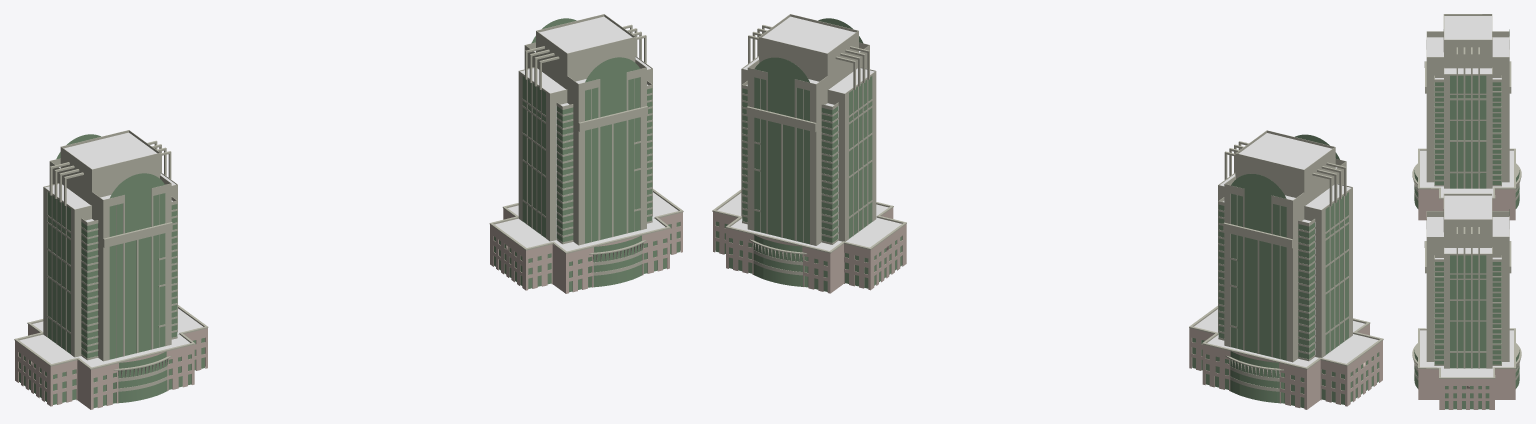
The picture shows the model from 3 angles, left to right: view 1: azimuth 30°, elevation 25°; view 2: azimuth 150°, elevation 25°; view 3: azimuth 270°, elevation 25°; orthographic projection. The views are drawn at different scales.
Parts seen in each view (by area): view 1: 玻璃8885ad4; view 2: 玻璃8885ad4; view 3: 玻璃8885ad4.
Boxes of the visible parts, x1=… form: 玻璃8885ad4: x1=14, y1=14, x2=683, y2=409; 玻璃8885ad4: x1=712, y1=14, x2=1383, y2=409; 玻璃8885ad4: x1=1412, y1=14, x2=1521, y2=409.
Bounding box in the file's own units: 243 × 82.06 × 46.86.
